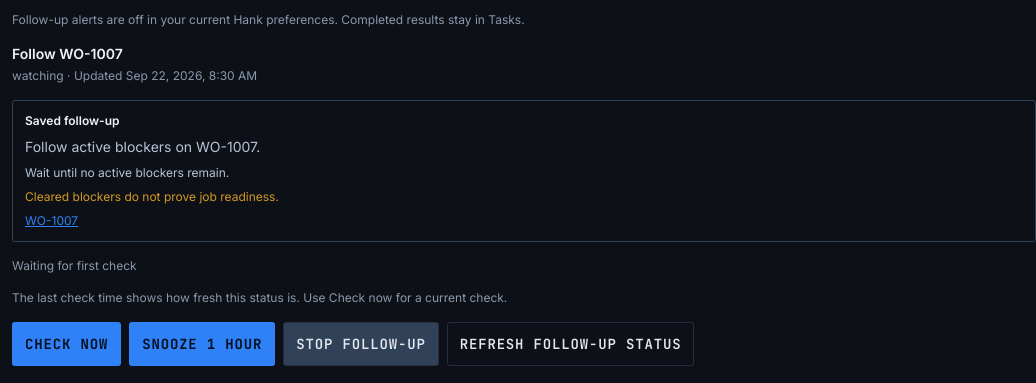
Test case: HankWatchWorkflow › shows muted alerts without changing the saved watch and refreshes the current preference separately
Check: the text "Follow-up alerts are off in your current Hank preferences. Completed results stay in Tasks." is shown, box [12, 12, 525, 27]
Check: the text "enable private in-app alerts" is not shown
Click the button "Refresh follow-up status": x=571, y=344 [447, 322, 694, 366]
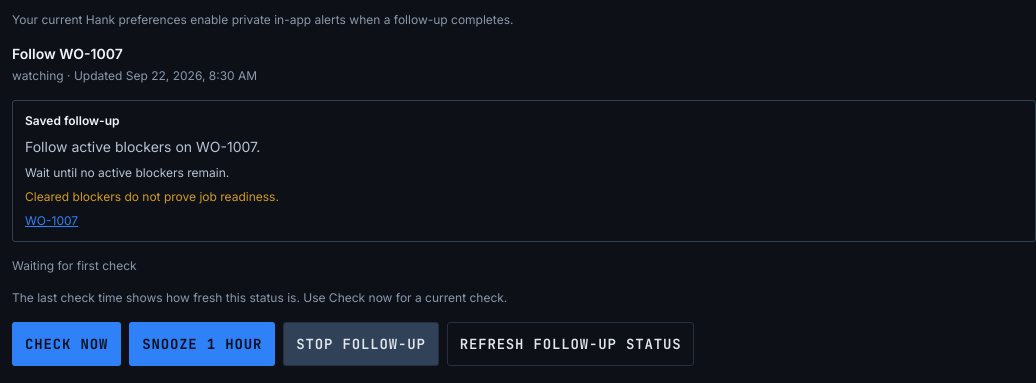
Check: the text "Your current Hank preferences enable private in-app alerts when a follow-up completes." is shown, box [12, 12, 514, 27]
